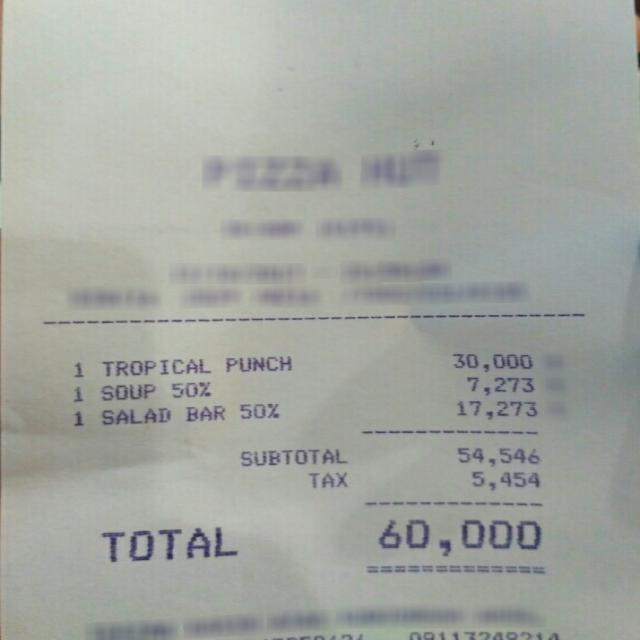text: (376, 516, 540, 555), (100, 526, 234, 560), (100, 356, 208, 375), (240, 447, 345, 464), (456, 398, 536, 418), (456, 447, 538, 465), (451, 352, 532, 370), (100, 406, 170, 424), (408, 630, 558, 638), (466, 376, 531, 394), (471, 471, 538, 488), (223, 354, 289, 371), (97, 382, 153, 401), (306, 471, 345, 487), (239, 401, 277, 417), (183, 405, 223, 420), (171, 381, 209, 396), (69, 408, 84, 426), (71, 360, 84, 378), (70, 384, 83, 402)
